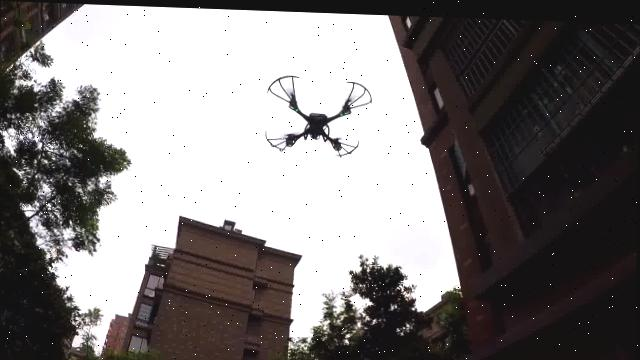drone: (258, 66, 370, 156)
